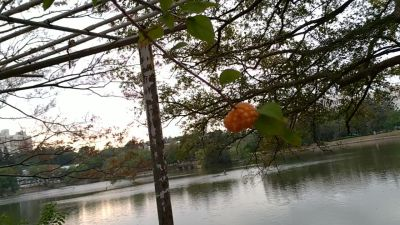eggs: (223, 100, 261, 132)
